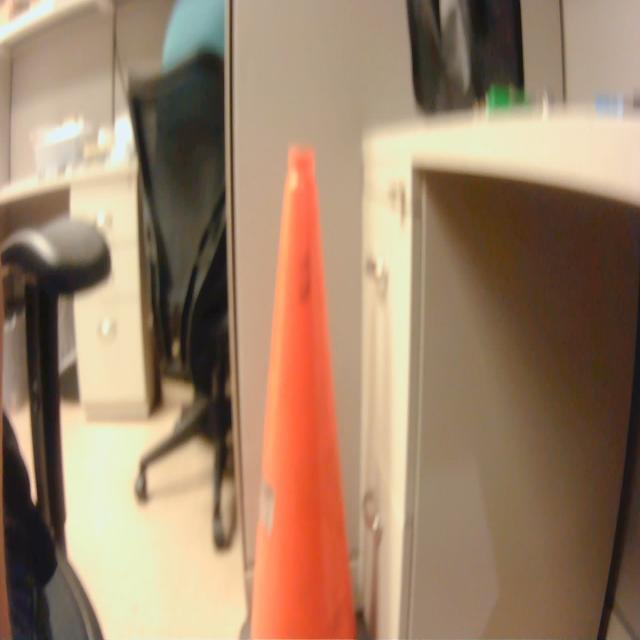traffic cone: (231, 135, 381, 640)
